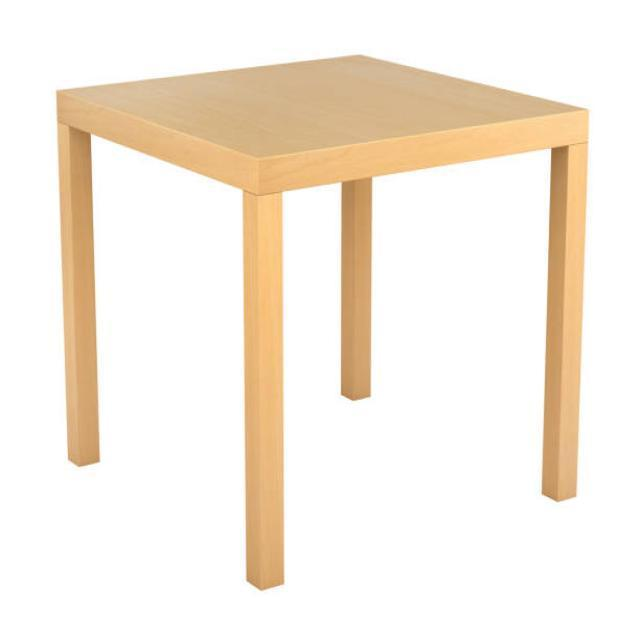table: (55, 51, 590, 590)
